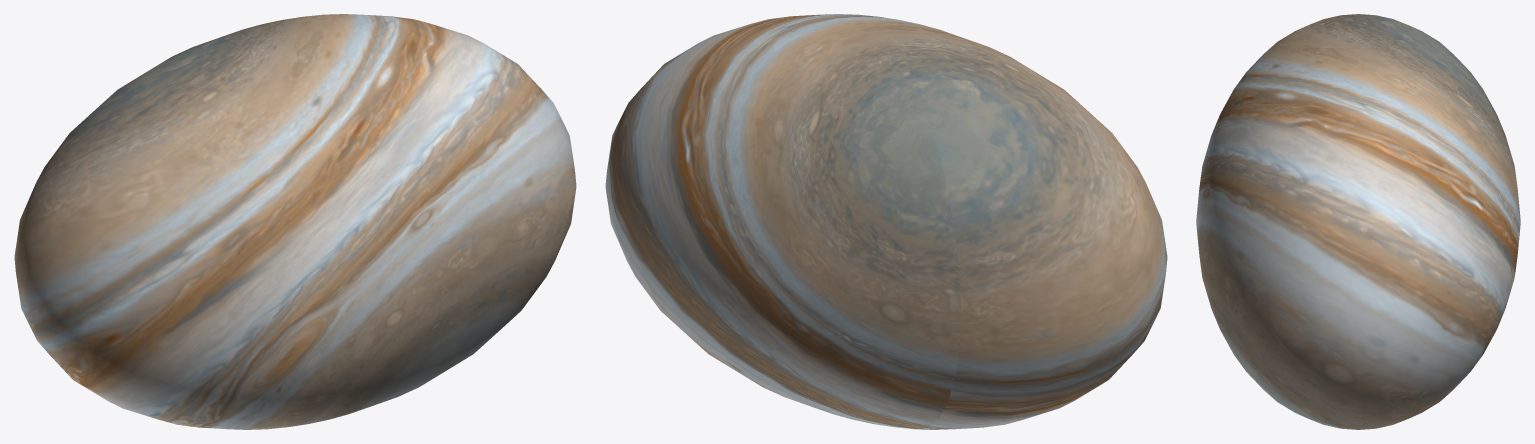
The model's file is jupiter.glb.
3 renders of one model, left to right at view 1: azimuth 30°, elevation 25°; view 2: azimuth 150°, elevation 25°; view 3: azimuth 270°, elevation 25°, orthographic. The views are drawn at different scales.
Parts seen in each view (by area): view 1: Sphere; view 2: Sphere; view 3: Sphere.
Part boxes in pixels (x1=…): Sphere: x1=14, y1=14, x2=576, y2=429; Sphere: x1=605, y1=14, x2=1167, y2=429; Sphere: x1=1196, y1=14, x2=1520, y2=429.
Bounding box in the file's own units: 6.69 × 4.47 × 3.85.
Materials: 1 (1 with a texture image).
